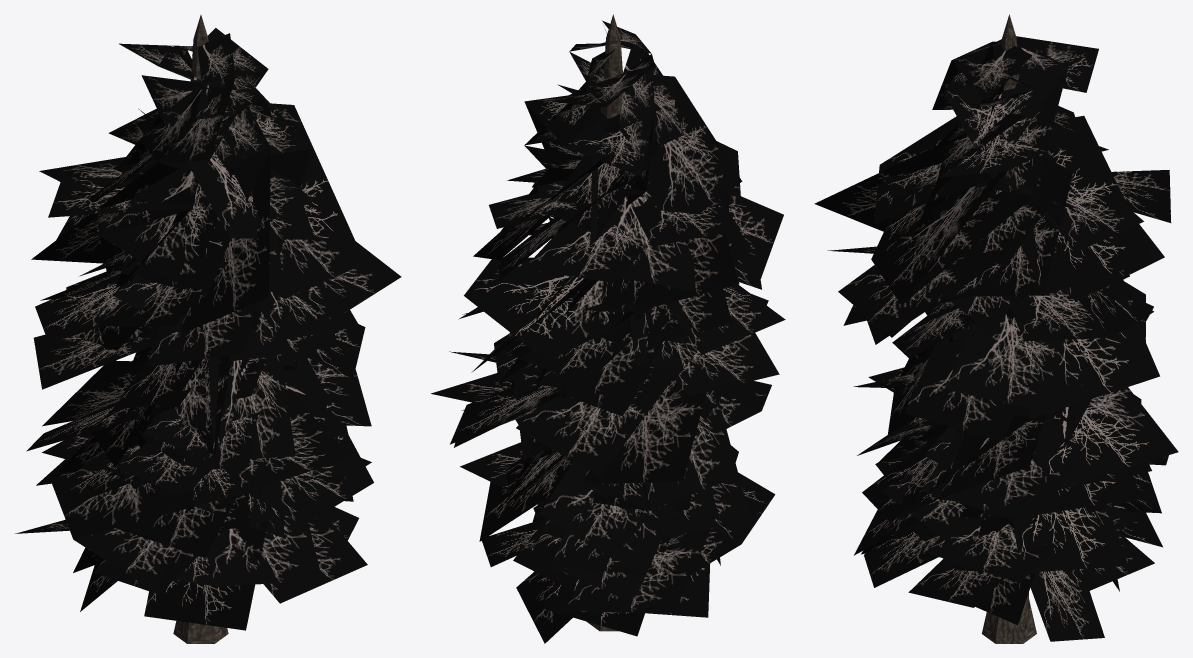
File: NoLeavesSnow.fbx
The picture shows the model from 3 angles, left to right: view 1: azimuth 30°, elevation 25°; view 2: azimuth 150°, elevation 25°; view 3: azimuth 270°, elevation 25°; orthographic projection. The views are drawn at different scales.
Visible parts, largest first — view 1: SnowBranch; view 2: SnowBranch; view 3: SnowBranch.
Part boxes in pixels (left/top/right/bottom): SnowBranch: left=15, top=15, right=401, bottom=643; SnowBranch: left=431, top=14, right=785, bottom=643; SnowBranch: left=814, top=14, right=1178, bottom=643.
Size of the model in its own units: 3105 by 5538 by 2953.
2 materials, 2 textured.
